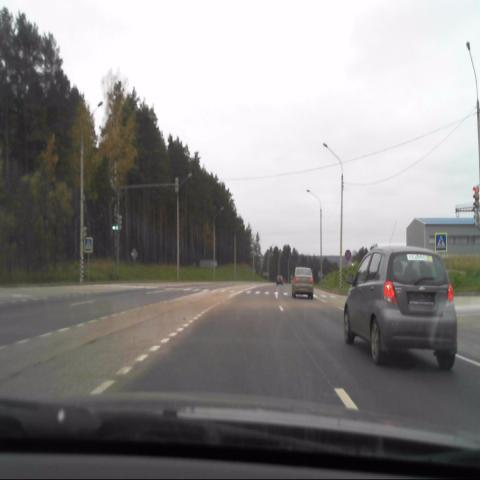5_19_1: (435, 233, 449, 253), (83, 236, 92, 253)
